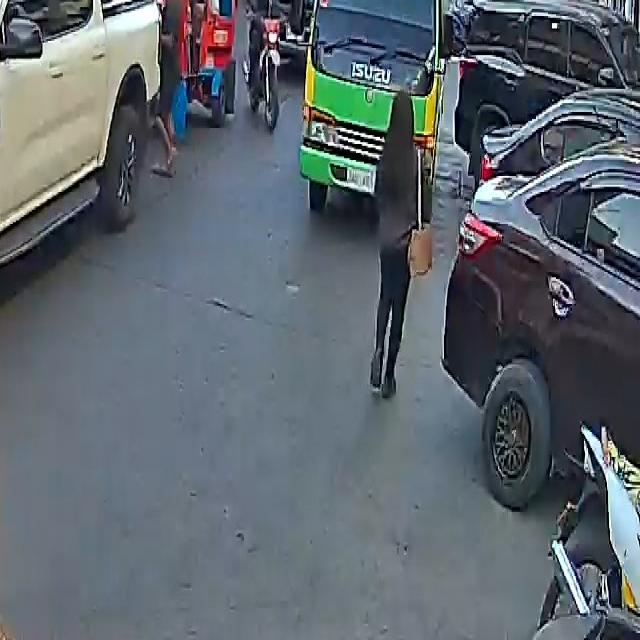car: (444, 74, 640, 525), (0, 0, 176, 311), (452, 0, 640, 183), (274, 0, 332, 60)
